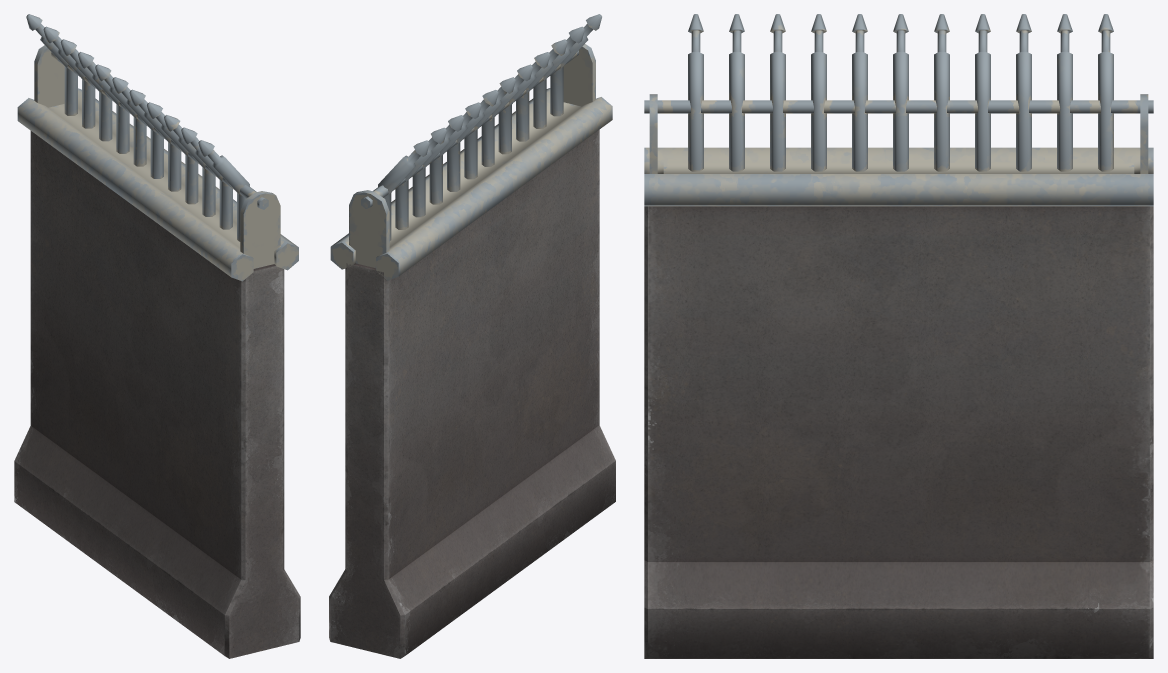
The model's file is StoneFence.fbx.
3 views of the same model, side by side, from view 1: azimuth 30°, elevation 25°; view 2: azimuth 150°, elevation 25°; view 3: azimuth 270°, elevation 25° (orthographic). The views are drawn at different scales.
Visible parts, largest first — view 1: Plane.004; view 2: Plane.004; view 3: Plane.004.
Boxes of the visible parts, x1,y1,x2,y2 form: Plane.004: (14, 14, 300, 658); Plane.004: (329, 14, 615, 658); Plane.004: (644, 14, 1153, 658).
Size of the model in its own units: 0.5518 by 3.25 by 2.5.
